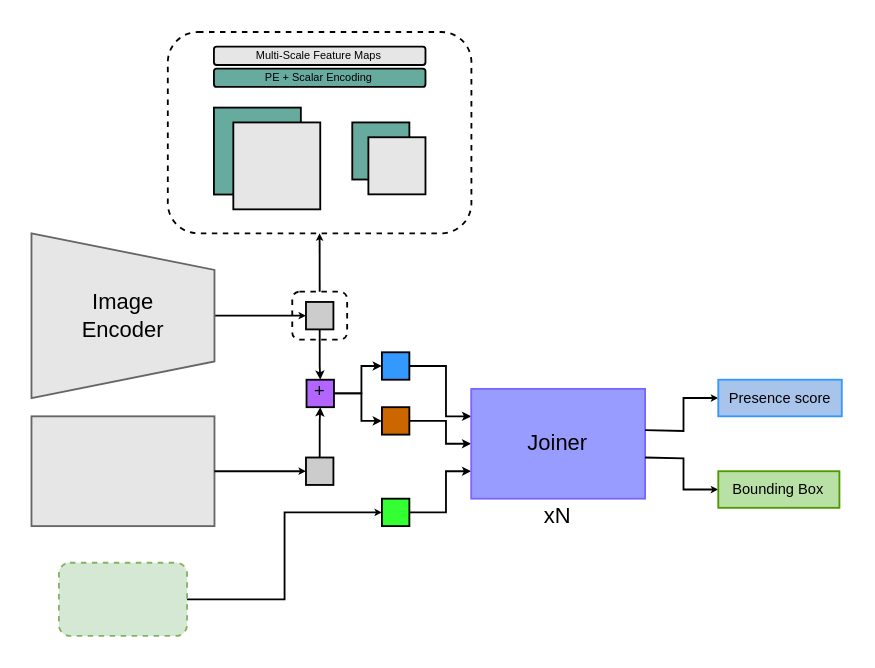
Some shapes in this 875 by 668 pixel diagram are drawn without their labels. The centre of each missing label's shape, as x and y in pixels:
"Query Vector" belongs at pixel 122 598.
"Text Encoder" belongs at pixel 122 470.
